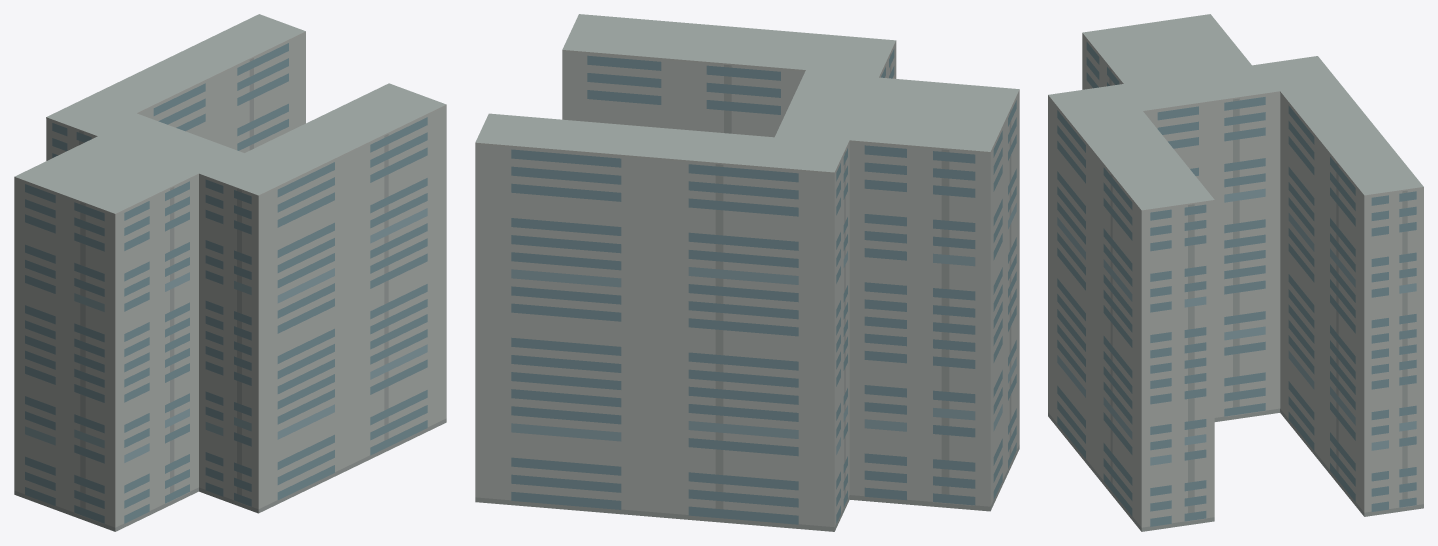
Rendered from residential-197a45d6-daa2-4667-9dbe-27a3e2833714.glb.
3 renders of one model, left to right at view 1: azimuth 30°, elevation 25°; view 2: azimuth 150°, elevation 25°; view 3: azimuth 270°, elevation 25°, orthographic. The views are drawn at different scales.
Parts seen in each view (by area): view 1: residential-197a45d6-daa2-4667-9dbe-27a3e2833714.tmp; view 2: residential-197a45d6-daa2-4667-9dbe-27a3e2833714.tmp; view 3: residential-197a45d6-daa2-4667-9dbe-27a3e2833714.tmp.
Boxes of the visible parts, <box> form: residential-197a45d6-daa2-4667-9dbe-27a3e2833714.tmp: <box>14,14,446,531</box>; residential-197a45d6-daa2-4667-9dbe-27a3e2833714.tmp: <box>475,14,1019,531</box>; residential-197a45d6-daa2-4667-9dbe-27a3e2833714.tmp: <box>1048,14,1423,531</box>.
Bounding box in the file's own units: 79.95 × 61 × 64.63.
